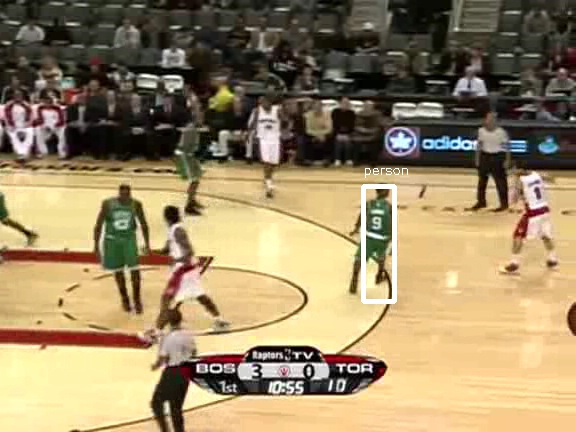person: (361, 192, 395, 273), (360, 192, 394, 273), (362, 192, 396, 273), (361, 191, 395, 272), (361, 193, 395, 274)
target_negative: (178, 3, 358, 363), (298, 255, 445, 375), (170, 284, 340, 373), (469, 71, 530, 243), (35, 336, 274, 373), (262, 330, 365, 388)
